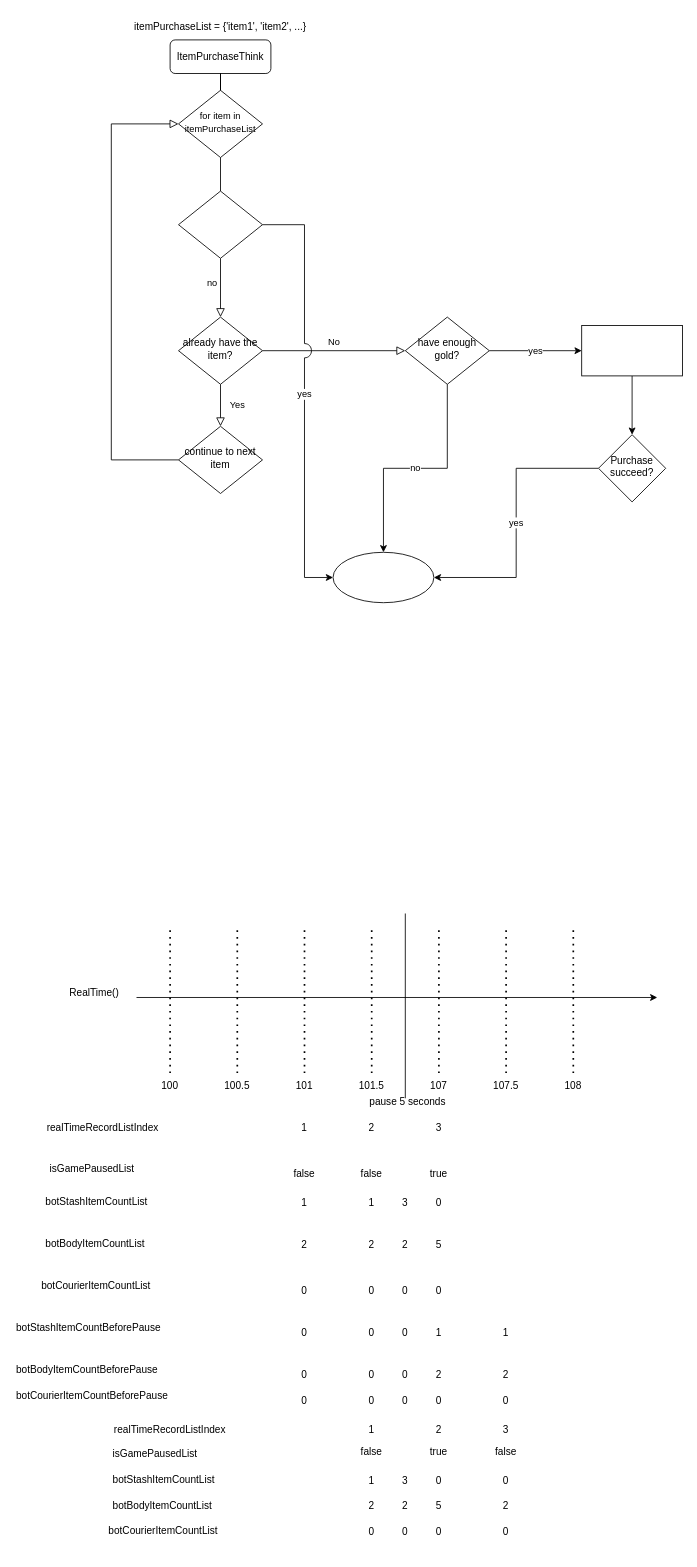
Image size: 697x1567. Some labels were removed from this diagram. The shapes that lost their labels are listed below. From the top down, each one's box as (x1, y1, x2, y2) in pixels, then its label:
(178, 190, 262, 258): Is the loop over?
(581, 325, 682, 376): PuchaseItem
(332, 551, 434, 603): End
